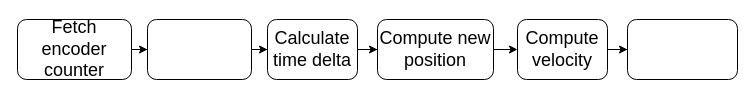
This 755x99 diagram has some shape labels left out. The shapes that lost their labels are listed below. From the top down, each one's box as (x1, y1, x2, y2) in pixels, then its label:
(146, 18, 252, 80): Fetch current timestamp
(626, 18, 738, 80): Save current timestamp
